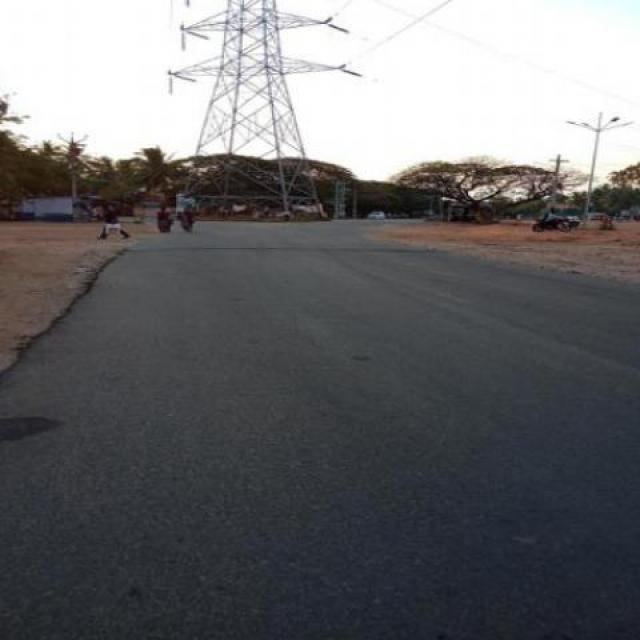Pothole: (0, 398, 63, 456)
Unmarked Bump: (116, 244, 451, 256)
